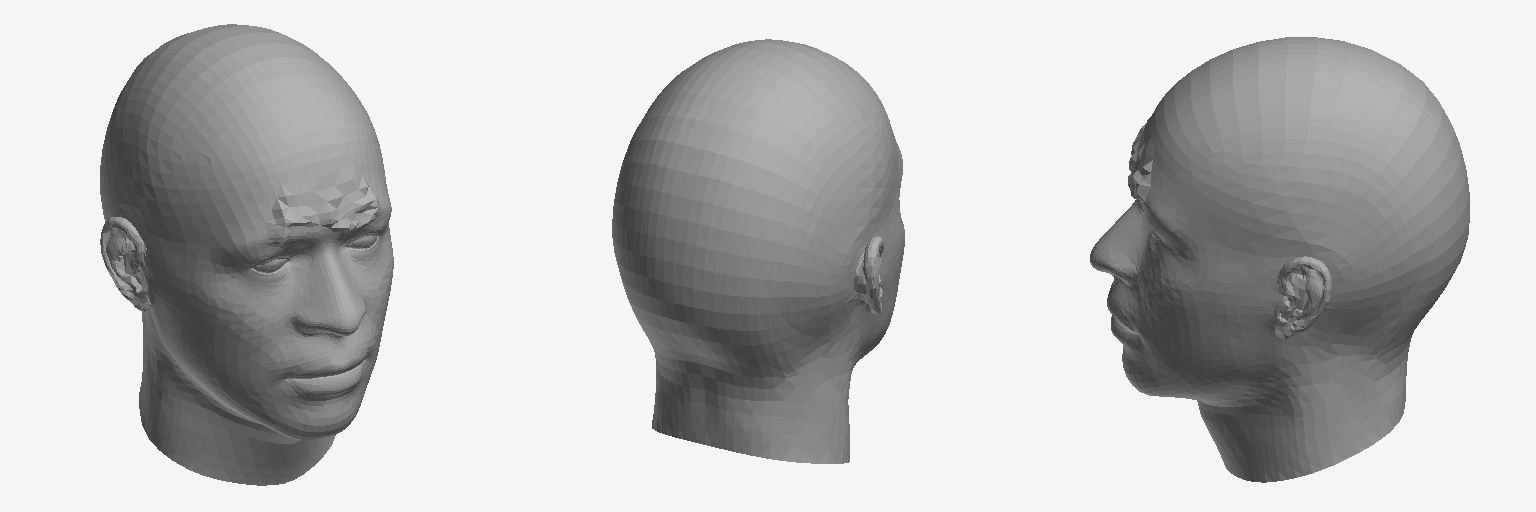
Rendered from MaleFaced21.obj.
3 views of the same model, side by side, from view 1: azimuth 30°, elevation 25°; view 2: azimuth 150°, elevation 25°; view 3: azimuth 270°, elevation 25° (orthographic).
Visible parts, largest first — view 1: HeadHires; view 2: HeadHires; view 3: HeadHires.
Boxes of the visible parts, x1,y1,x2,y2 form: HeadHires: [100, 24, 393, 485]; HeadHires: [612, 39, 904, 463]; HeadHires: [1090, 37, 1469, 482].
Size of the model in its own units: 188 by 283 by 235.